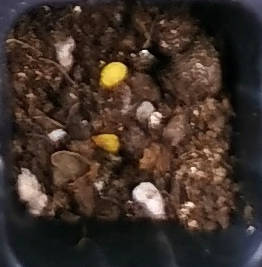pepper seed: (30, 55, 151, 209), (32, 14, 162, 105)
